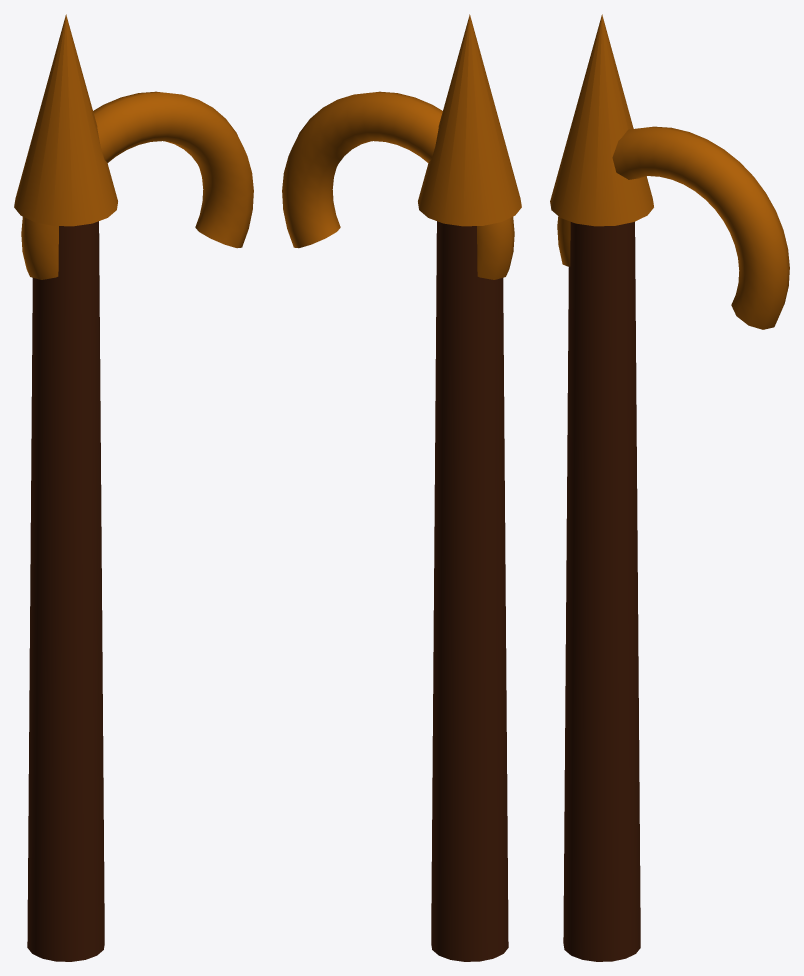
File: ankusha.glb
The picture shows the model from 3 angles, left to right: view 1: azimuth 30°, elevation 25°; view 2: azimuth 150°, elevation 25°; view 3: azimuth 330°, elevation 25°; orthographic projection.
Parts seen in each view (by area): view 1: handle, metal; view 2: handle, metal; view 3: handle, metal.
Boxes of the visible parts, bbox=[...] form: handle: bbox=[27, 221, 104, 961]; metal: bbox=[14, 14, 253, 279]; handle: bbox=[431, 221, 508, 961]; metal: bbox=[282, 14, 521, 279]; handle: bbox=[563, 221, 640, 961]; metal: bbox=[550, 14, 789, 329].
Bounding box in the file's own units: 0.177 × 0.685 × 0.07.
